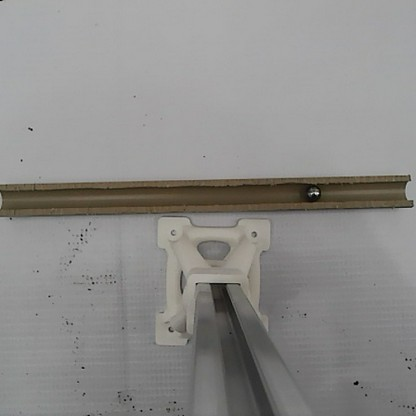ironball: (303, 183, 322, 202)
